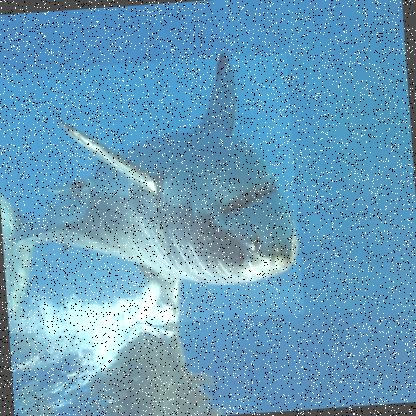white-shark: (0, 50, 304, 333)
